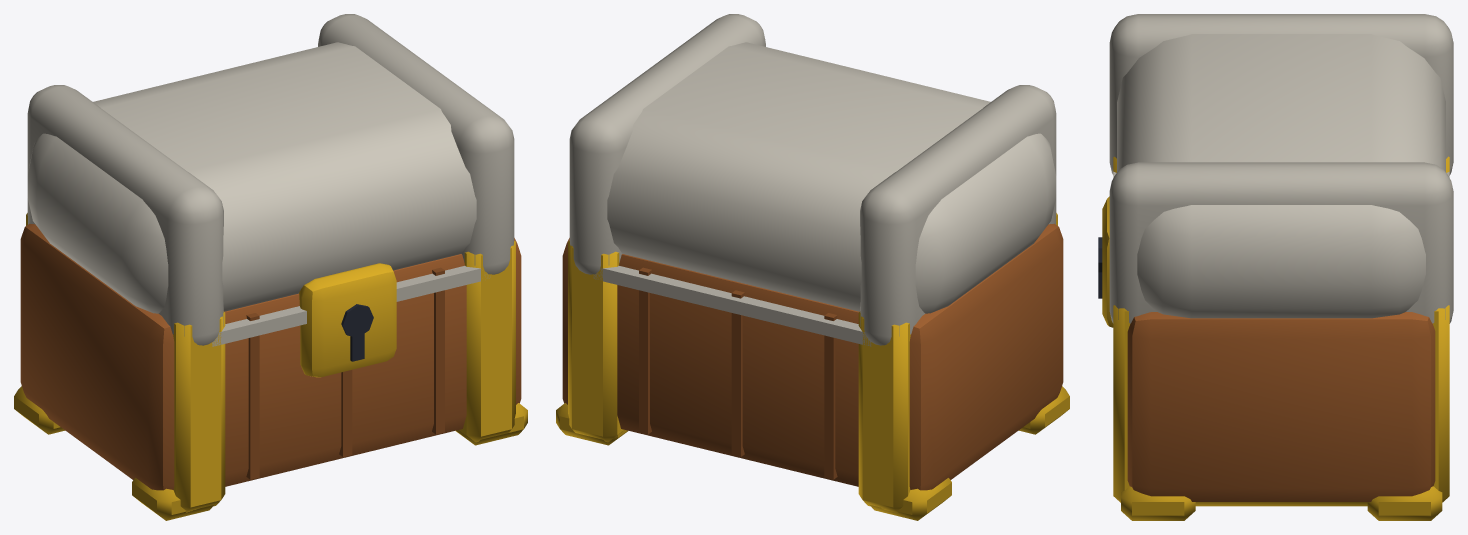
The model's file is p_chest.glb.
3 renders of one model, left to right at view 1: azimuth 30°, elevation 25°; view 2: azimuth 150°, elevation 25°; view 3: azimuth 270°, elevation 25°, orthographic. The views are drawn at different scales.
Visible parts, largest first — view 1: lid, body; view 2: lid, body; view 3: lid, body.
Part boxes in pixels (left/top/right/bottom): lid: left=27, top=14, right=514, bottom=346; body: left=14, top=213, right=527, bottom=520; lid: left=569, top=14, right=1056, bottom=346; body: left=556, top=213, right=1069, bottom=520; lid: left=1109, top=14, right=1453, bottom=323; body: left=1098, top=156, right=1449, bottom=520.
Size of the model in its own units: 1.24 by 1 by 0.95.
